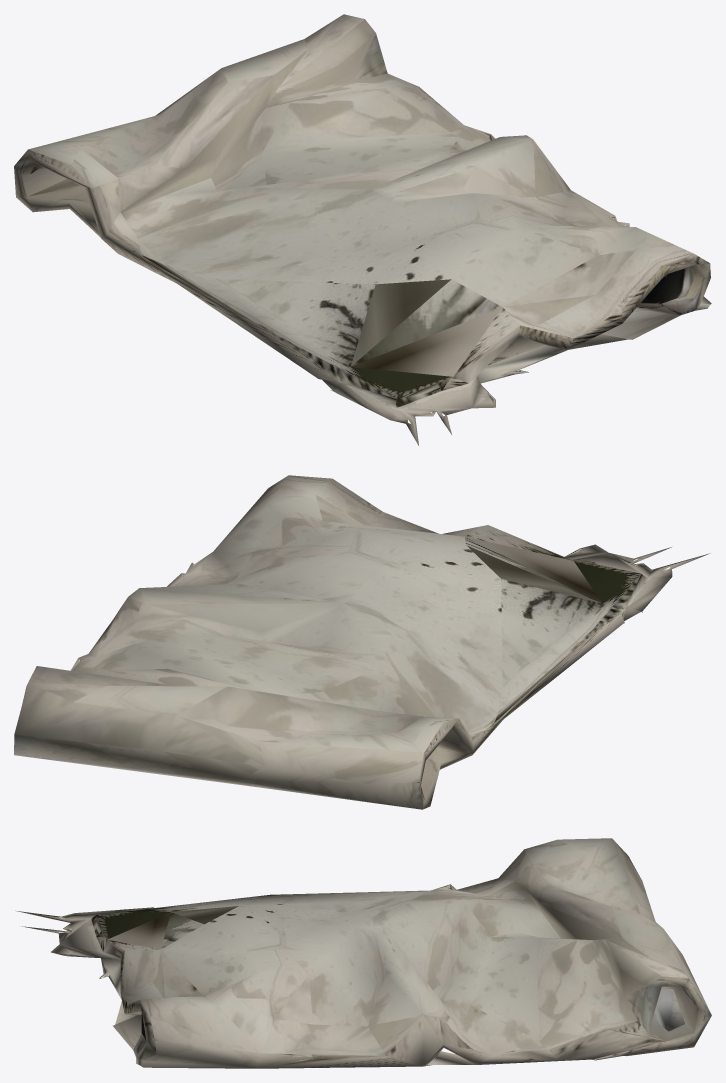
The model's file is lhi_burner_cloth.glb.
3 renders of one model, top to bottom at view 1: azimuth 30°, elevation 25°; view 2: azimuth 150°, elevation 25°; view 3: azimuth 270°, elevation 25°, orthographic. The views are drawn at different scales.
Parts seen in each view (by area): view 1: material; view 2: material; view 3: material.
Boxes of the visible parts, x1,y1,x2,y2 form: material: [14, 14, 711, 445]; material: [14, 475, 709, 809]; material: [15, 838, 711, 1068].
Bounding box in the file's own units: 0.6221 × 0.1177 × 1.01.
Materials: 1 (1 with a texture image).
